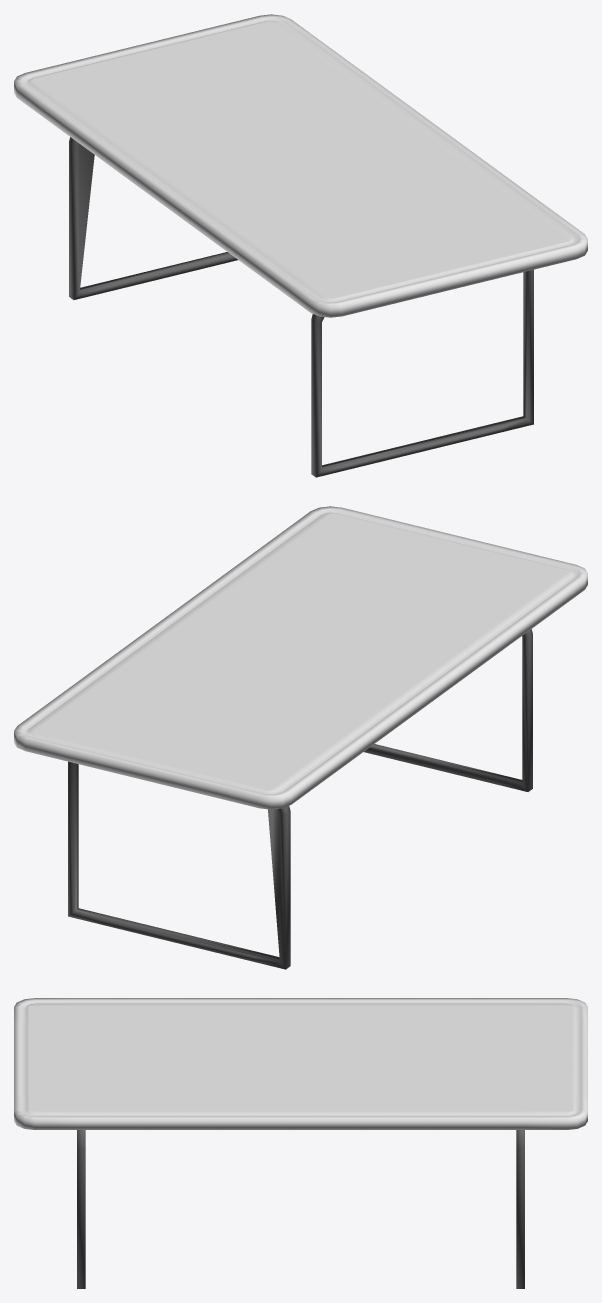
The model's file is Plastic_Table.fbx.
3 renders of one model, top to bottom at view 1: azimuth 30°, elevation 25°; view 2: azimuth 150°, elevation 25°; view 3: azimuth 270°, elevation 25°, orthographic. The views are drawn at different scales.
Visible parts, largest first — view 1: Plastic_Table; view 2: Plastic_Table; view 3: Plastic_Table.
Part boxes in pixels (bbox=[...]): Plastic_Table: bbox=[14, 14, 587, 477]; Plastic_Table: bbox=[14, 506, 587, 969]; Plastic_Table: bbox=[14, 998, 587, 1288].
Bounding box in the file's own units: 100 × 69.9 × 200.
Materials: 1 (1 with a texture image).
